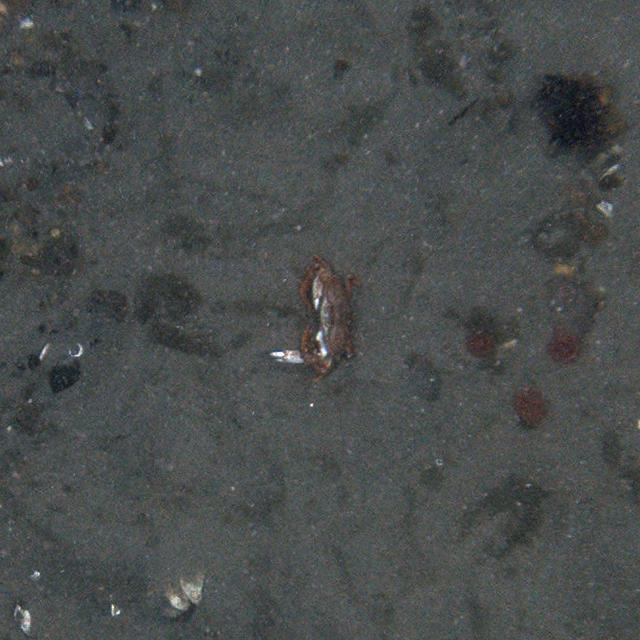crab: (298, 256, 356, 380)
